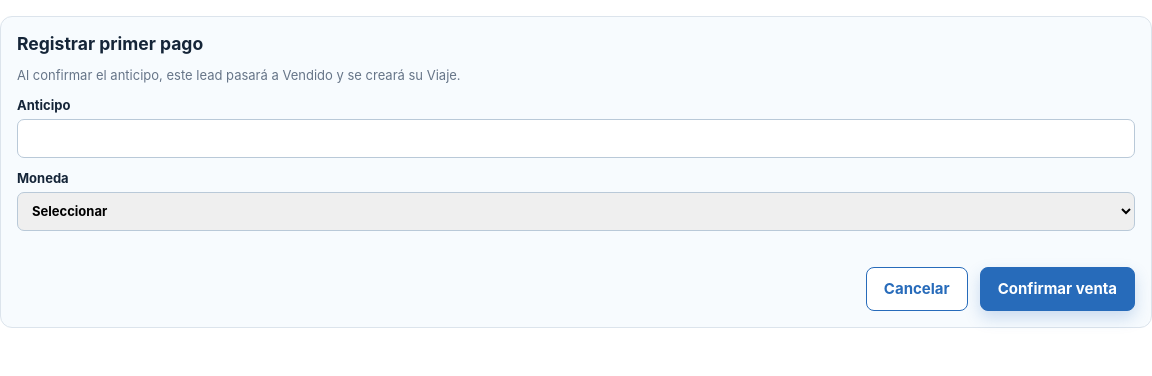
it: LeadConversionForm › does not allow conversion until the first payment includes an amount and currency
Click the button "Confirmar venta": [1057, 289] box [980,267,1135,311]
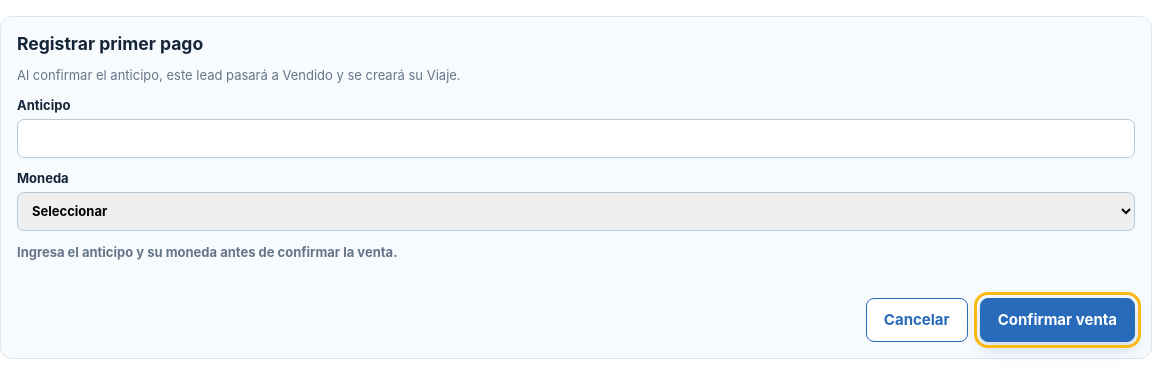
Result: the text "Ingresa el anticipo y su moneda antes de confirmar la venta." is shown at [17,244,398,260]
